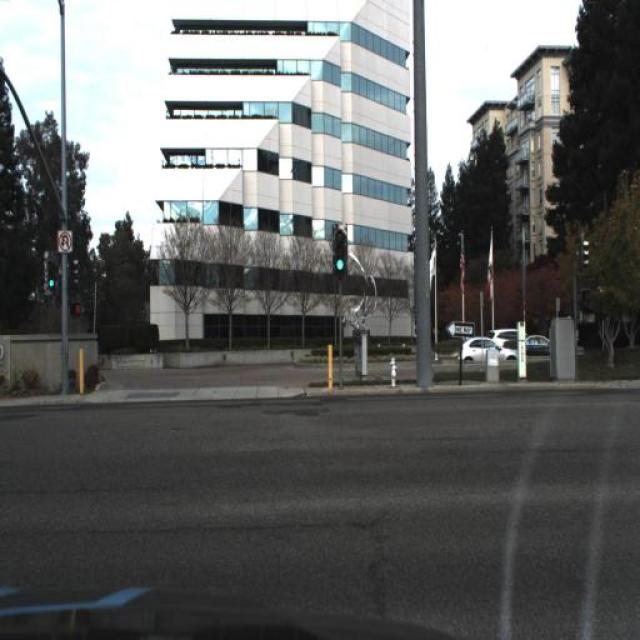car: (488, 322, 532, 358), (461, 337, 519, 364), (528, 331, 552, 362)
trafficLight-GreenLeft: (328, 222, 352, 298), (42, 261, 62, 310), (332, 224, 347, 275), (46, 267, 58, 297)
